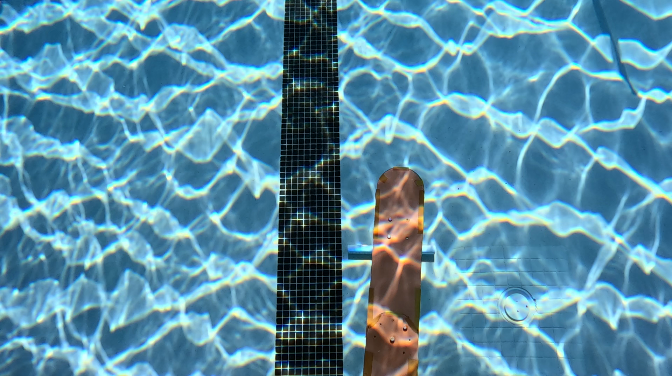pathmarker: (363, 167, 422, 372)
